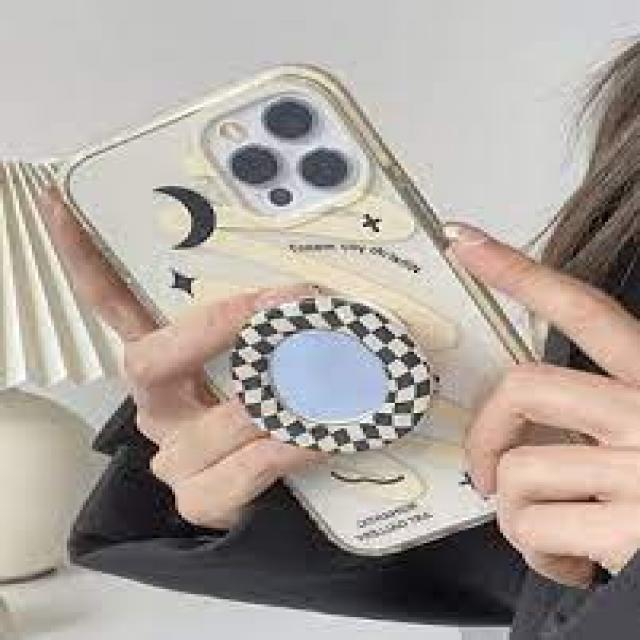Phone: (56, 54, 578, 564)
